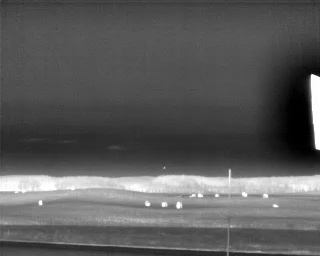BIRD: (162, 164, 168, 171)
